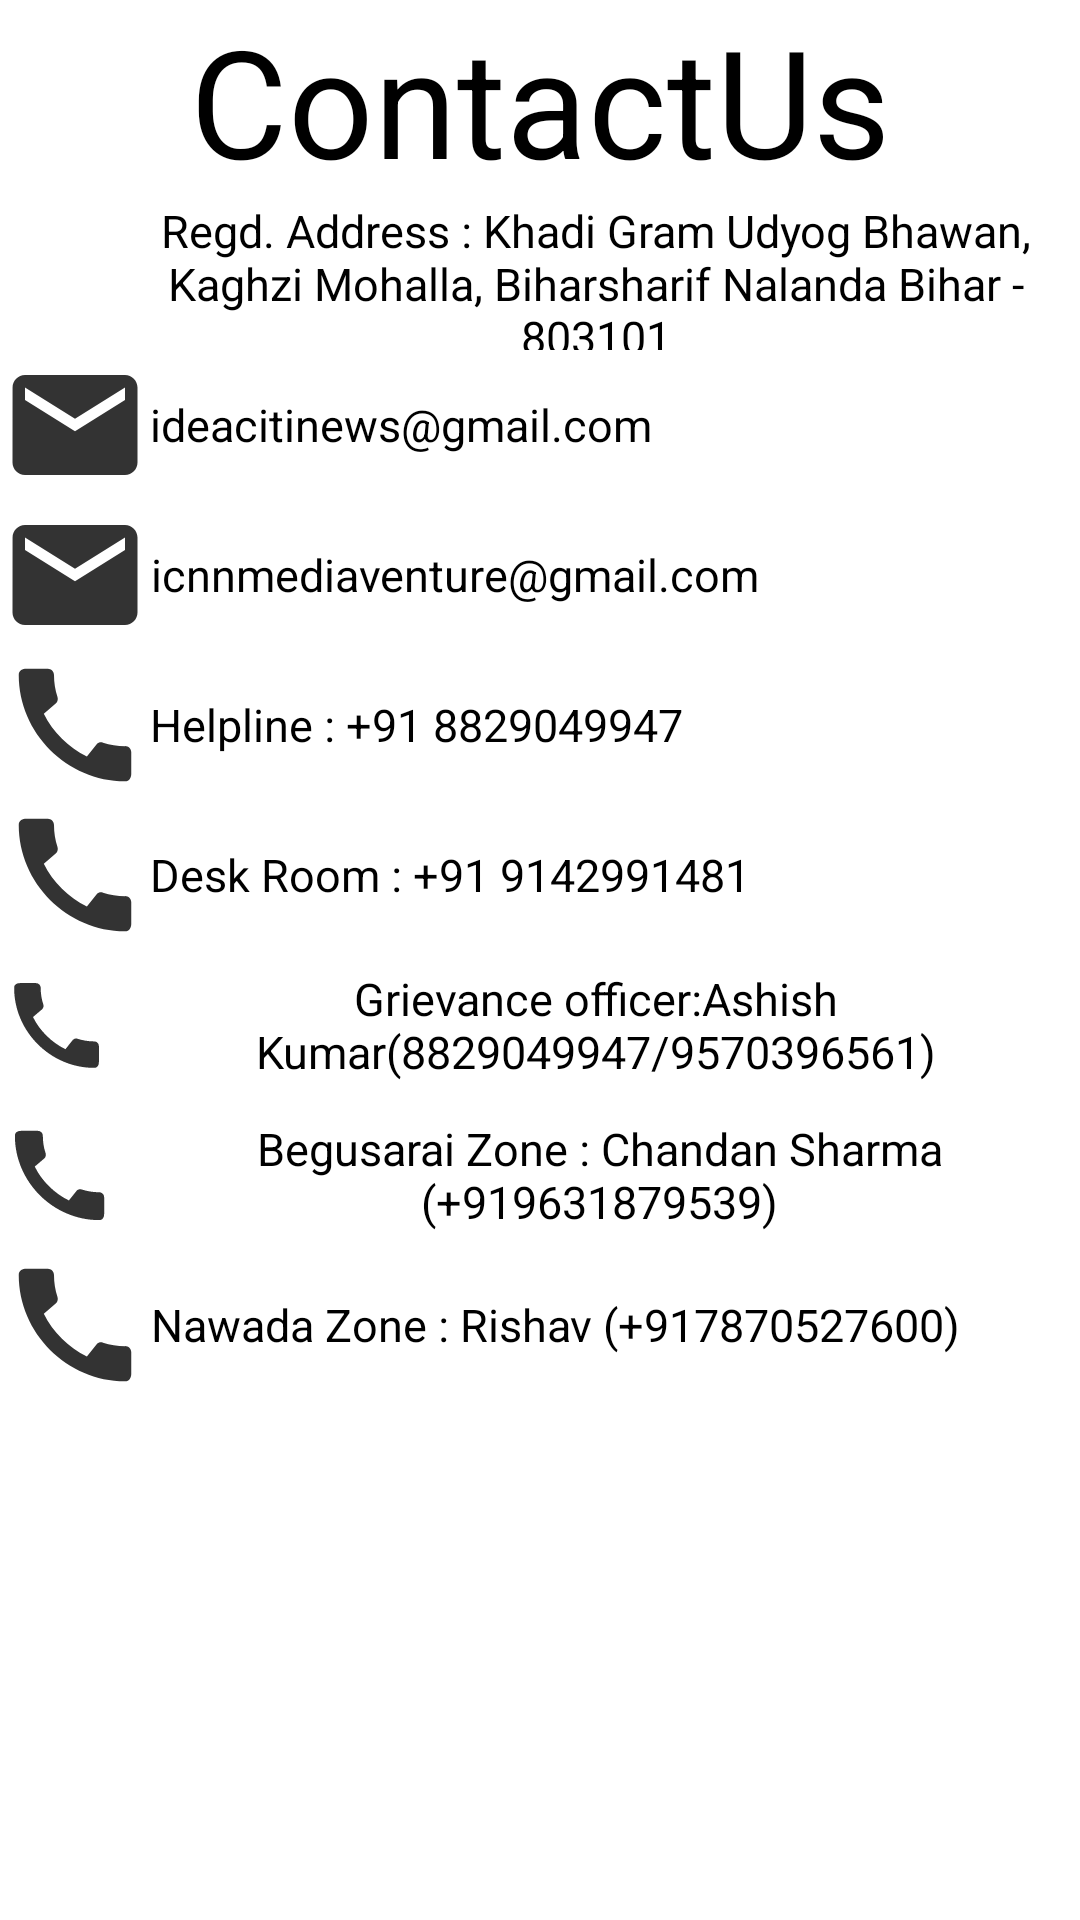

Named icons in this screenshot (1080px x 1920px) and their centers, [x,y]:
call: [75,725], [75,875], [56,1025], [60,1175], [75,1325]
email: [75,425], [75,575]
